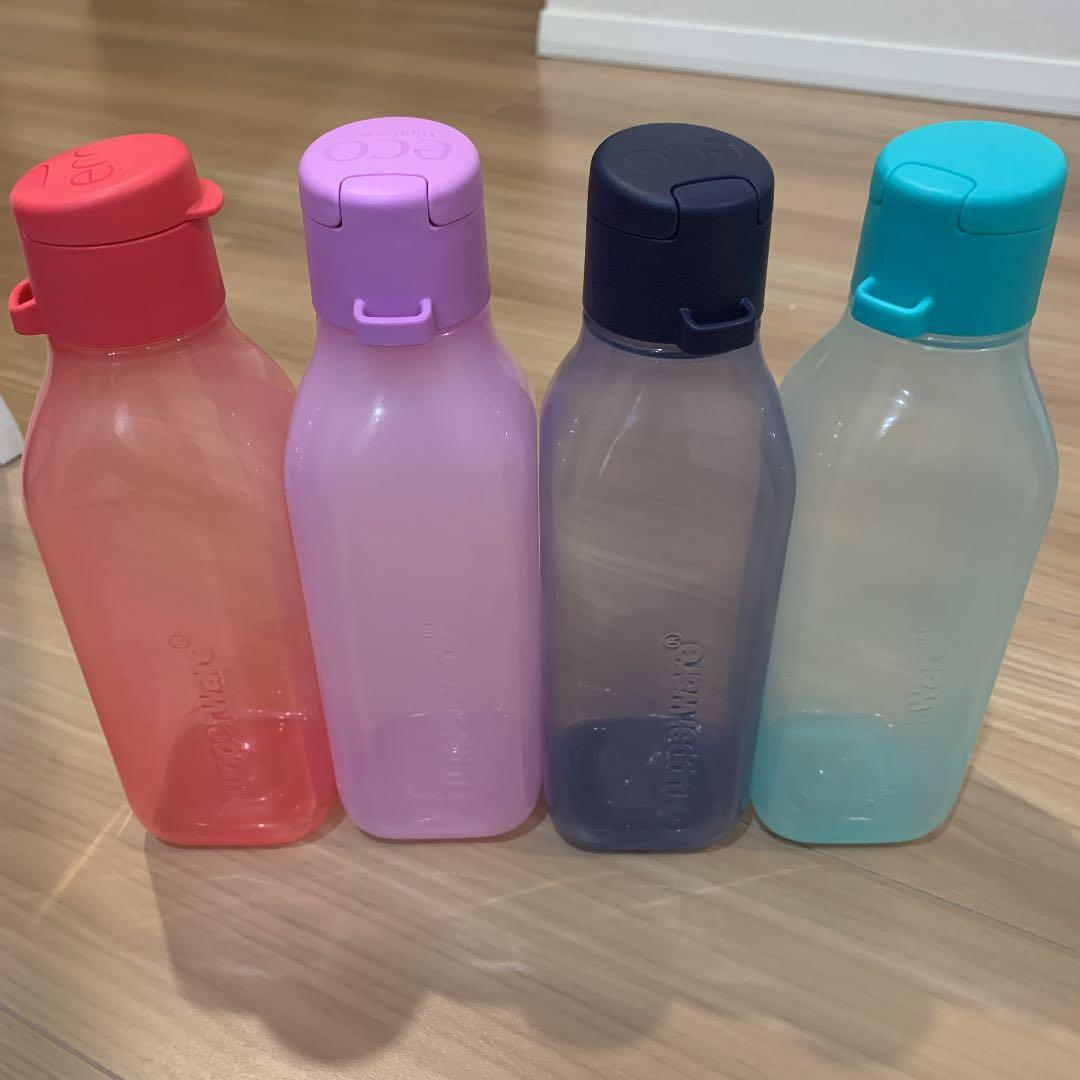plastic: (10, 118, 540, 845), (541, 121, 1066, 850)
